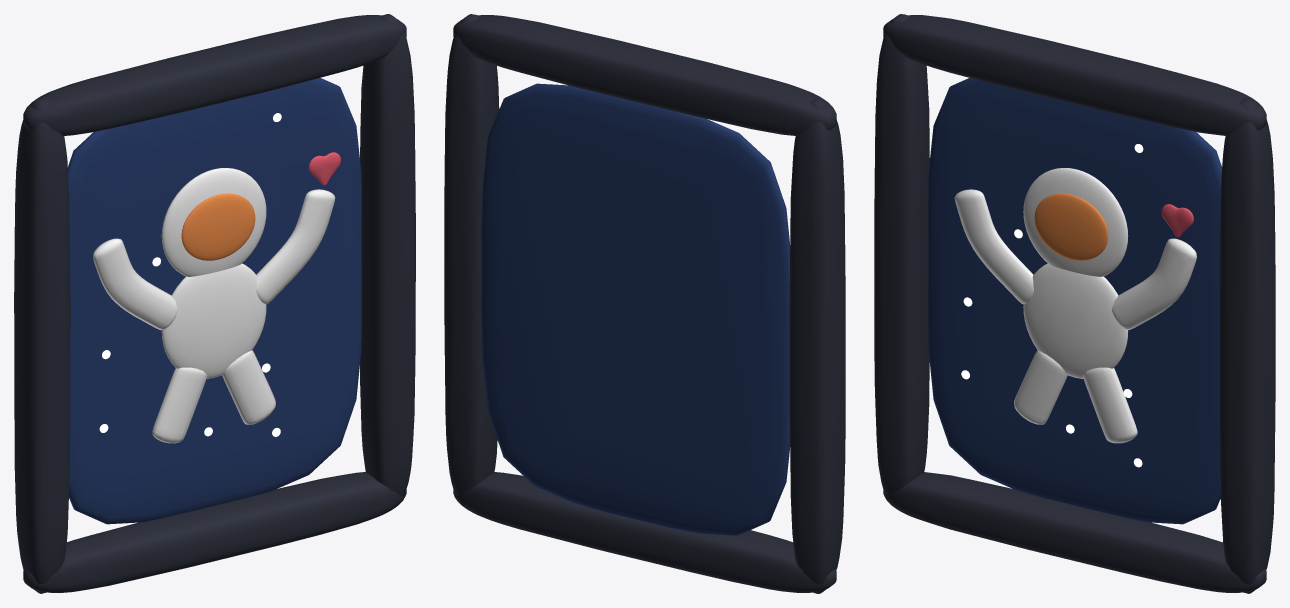
File: deco_cuadro_astronauta.glb
3 renders of one model, left to right at view 1: azimuth 30°, elevation 25°; view 2: azimuth 150°, elevation 25°; view 3: azimuth 330°, elevation 25°, orthographic.
Parts seen in each view (by area): view 1: lienzo.013, marco vertical.026, marco vertical.027, marco horizontal.027, marco horizontal.026, cuerpo astronauta.001, casco.001, visor.001, brazo astronauta -1.001, brazo astronauta 1.001, pierna astronauta -1.001, pierna astronauta 1.001 (+1 smaller); view 2: lienzo.013, marco vertical.026, marco horizontal.027, marco vertical.027, marco horizontal.026; view 3: lienzo.013, marco vertical.027, marco vertical.026, marco horizontal.027, marco horizontal.026, cuerpo astronauta.001, casco.001, visor.001, brazo astronauta 1.001, brazo astronauta -1.001, pierna astronauta 1.001, pierna astronauta -1.001 (+1 smaller).
Boxes of the visible parts, x1,y1,x2,y2 form: lienzo.013: (67, 78, 361, 524); marco vertical.026: (14, 98, 70, 593); marco vertical.027: (360, 14, 415, 496); marco horizontal.027: (23, 15, 406, 135); marco horizontal.026: (23, 472, 406, 592); cuerpo astronauta.001: (161, 263, 266, 378); casco.001: (161, 168, 266, 276); visor.001: (181, 193, 255, 260); brazo astronauta -1.001: (93, 238, 177, 329); brazo astronauta 1.001: (256, 189, 335, 304); pierna astronauta -1.001: (152, 367, 207, 443); pierna astronauta 1.001: (222, 350, 275, 424); lienzo.013: (481, 83, 790, 535); marco vertical.026: (789, 98, 845, 593); marco horizontal.027: (453, 15, 836, 135); marco vertical.027: (444, 14, 499, 495); marco horizontal.026: (453, 472, 836, 592); lienzo.013: (928, 78, 1221, 524); marco vertical.027: (1219, 98, 1275, 593); marco vertical.026: (874, 14, 929, 496); marco horizontal.027: (883, 15, 1266, 135); marco horizontal.026: (883, 472, 1266, 592); cuerpo astronauta.001: (1023, 263, 1128, 378); casco.001: (1023, 168, 1128, 276); visor.001: (1034, 193, 1108, 260); brazo astronauta 1.001: (1112, 238, 1196, 329); brazo astronauta -1.001: (954, 189, 1033, 304); pierna astronauta 1.001: (1082, 367, 1137, 443); pierna astronauta -1.001: (1014, 350, 1067, 424).
Bounding box in the file's own units: 0.5096 × 0.6297 × 0.0598.
